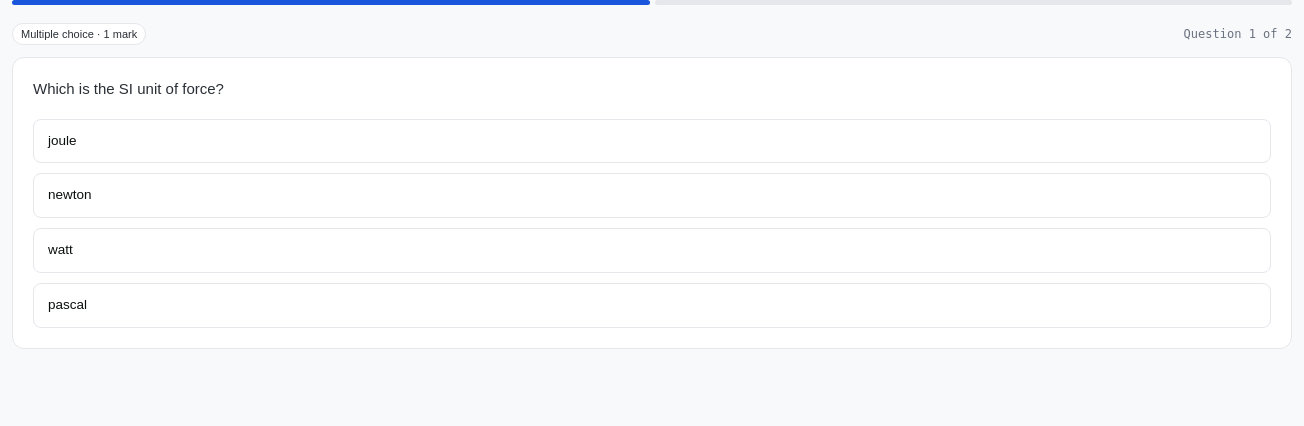
Test: answering multiple choice › sends the DISPLAY index with the attempt token, shows the mark and the correct option
Click the button "newton": (70, 195) [33,173,1271,218]
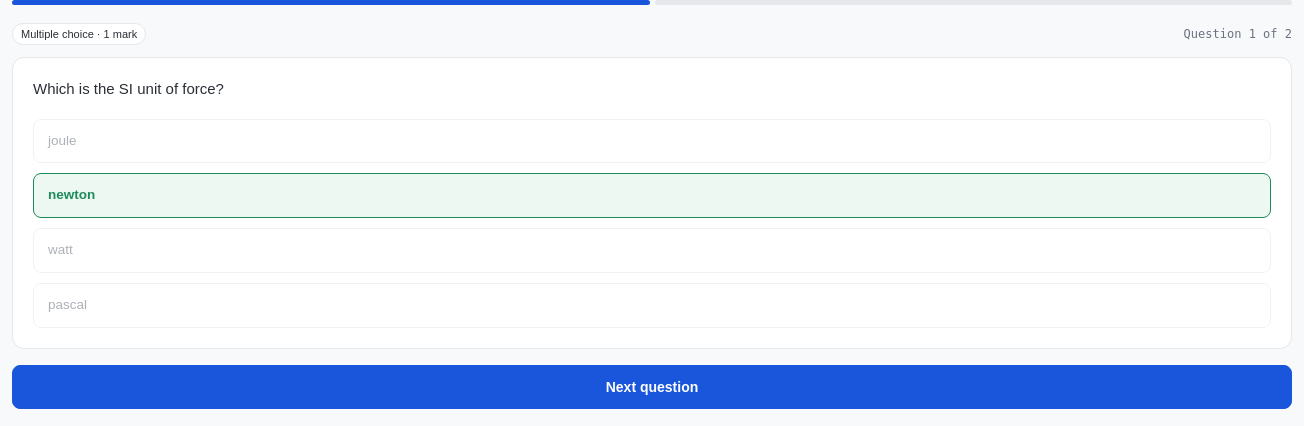
Result: the button "Next question" is shown at [12,365,1292,409]
